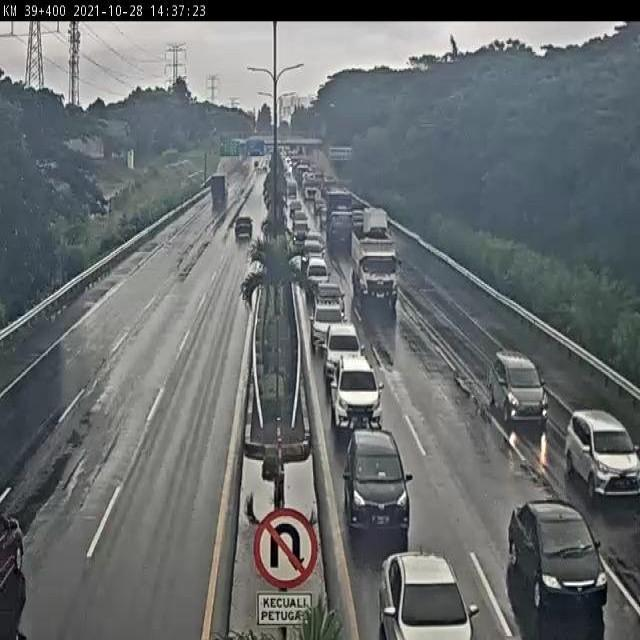car: (508, 497, 606, 632), (379, 552, 476, 640), (347, 430, 411, 539), (566, 410, 640, 500), (494, 351, 546, 430), (331, 360, 383, 430)
